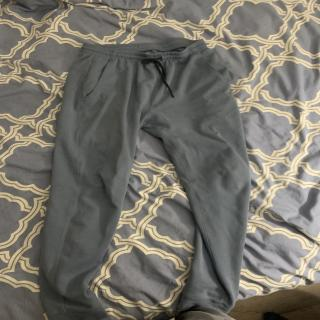Gray Sweatpants: (37, 43, 253, 319)
